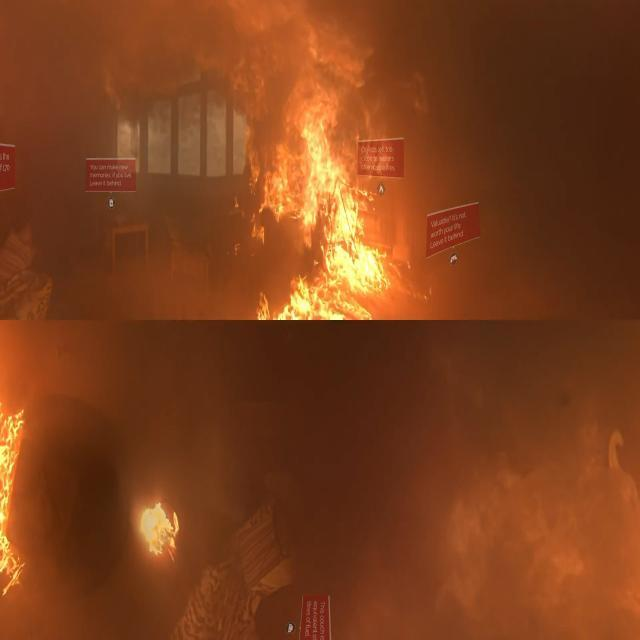Fire: (189, 21, 477, 340)
